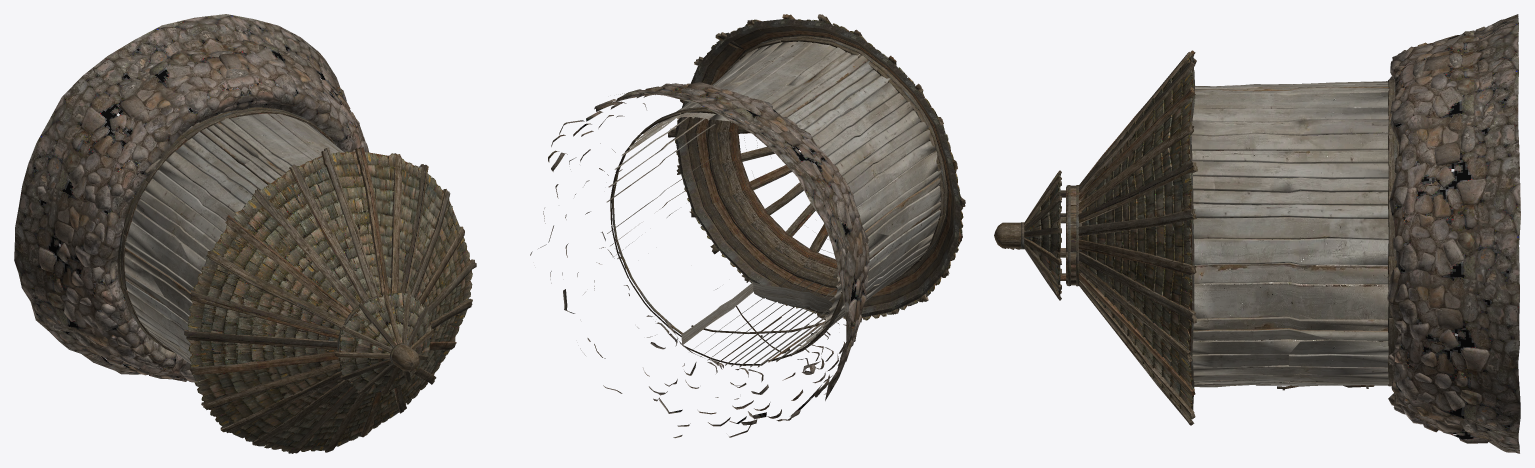
Rendered from VIK_SET_RoundHouse_6m_01A_G_031-transformed.glb.
3 renders of one model, left to right at view 1: azimuth 30°, elevation 25°; view 2: azimuth 150°, elevation 25°; view 3: azimuth 270°, elevation 25°, orthographic. The views are drawn at different scales.
Visible parts, largest first — view 1: VIK_SET_RoundHouse_6m_01A_G_031; view 2: VIK_SET_RoundHouse_6m_01A_G_031; view 3: VIK_SET_RoundHouse_6m_01A_G_031.
Part boxes in pixels (bbox=[...]): VIK_SET_RoundHouse_6m_01A_G_031: bbox=[14, 14, 476, 453]; VIK_SET_RoundHouse_6m_01A_G_031: bbox=[530, 14, 965, 438]; VIK_SET_RoundHouse_6m_01A_G_031: bbox=[994, 14, 1520, 453].
Bounding box in the file's own units: 0.0884 × 0.0867 × 0.1052.
5 materials, 5 textured.
